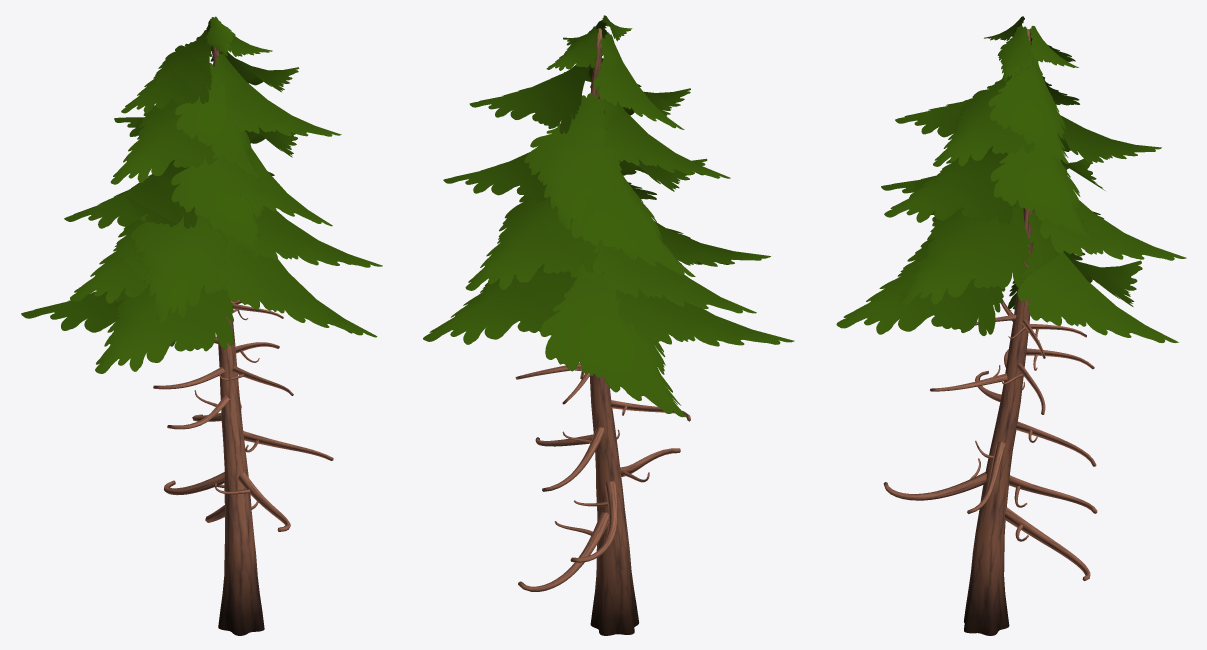
File: pine_3.glb
3 views of the same model, side by side, from view 1: azimuth 30°, elevation 25°; view 2: azimuth 150°, elevation 25°; view 3: azimuth 270°, elevation 25° (orthographic). The views are drawn at different scales.
Visible parts, largest first — view 1: Pine_3; view 2: Pine_3; view 3: Pine_3.
Part boxes in pixels (x1,y1,x2,y2): Pine_3: (21, 16, 382, 635); Pine_3: (423, 15, 794, 635); Pine_3: (836, 16, 1186, 635).
Bounding box in the file's own units: 3.61 × 7.39 × 4.
2 materials, 2 textured.
